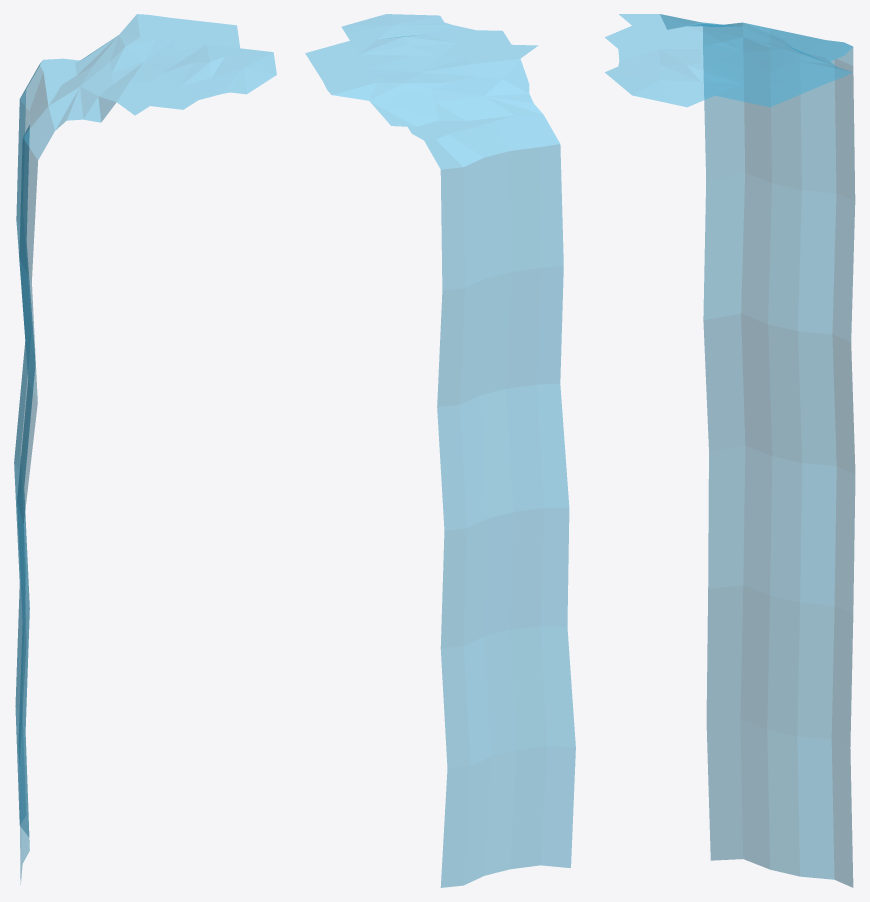
File: water_002.FBX
The picture shows the model from 3 angles, left to right: view 1: azimuth 30°, elevation 25°; view 2: azimuth 150°, elevation 25°; view 3: azimuth 270°, elevation 25°; orthographic projection. The views are drawn at different scales.
Visible parts, largest first — view 1: water_002; view 2: water_002; view 3: water_002.
Part boxes in pixels (bbox=[...]): water_002: bbox=[14, 14, 276, 884]; water_002: bbox=[305, 14, 575, 887]; water_002: bbox=[605, 14, 855, 887].
Bounding box in the file's own units: 2.1 × 6.46 × 1.64.
